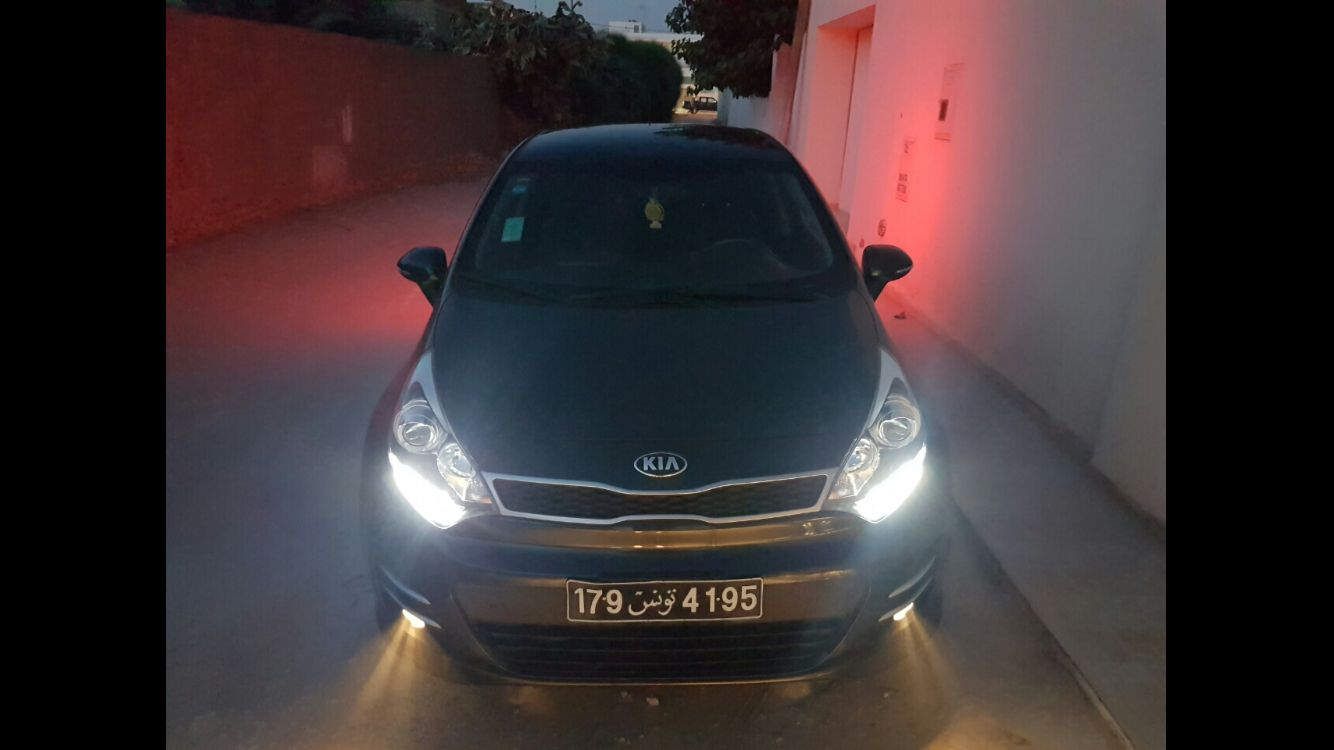LP: (561, 578, 768, 628)
